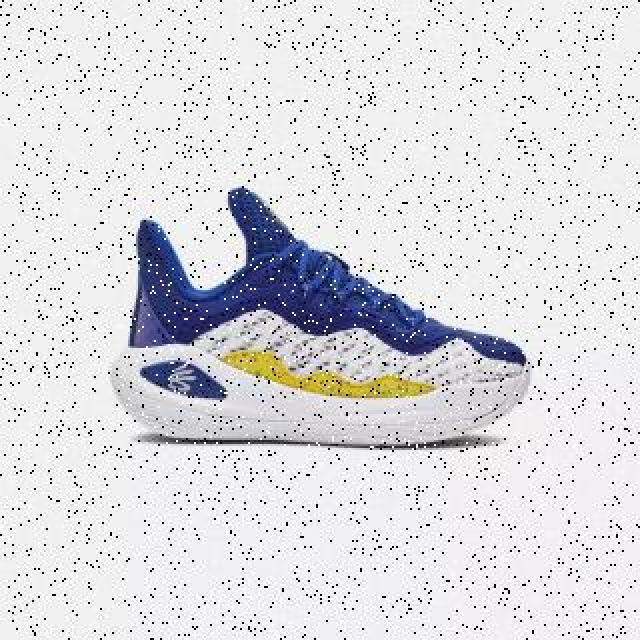shoe: (107, 183, 535, 448), (109, 188, 533, 444)
